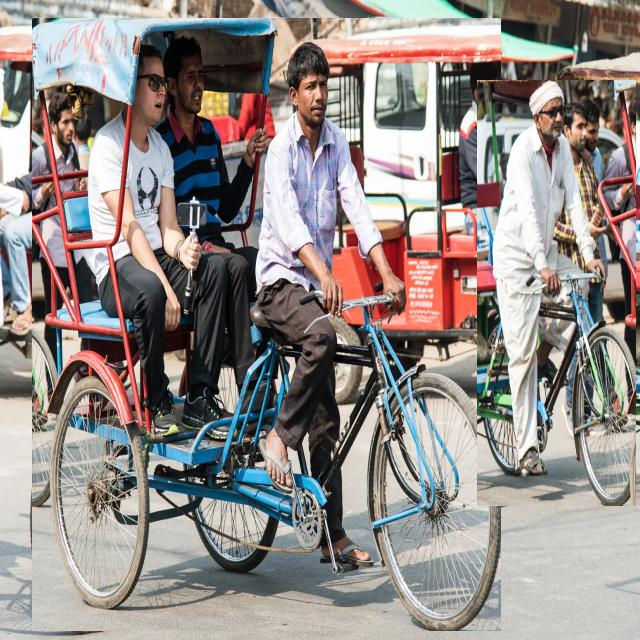bicycle: (32, 19, 500, 631), (477, 81, 635, 506)
